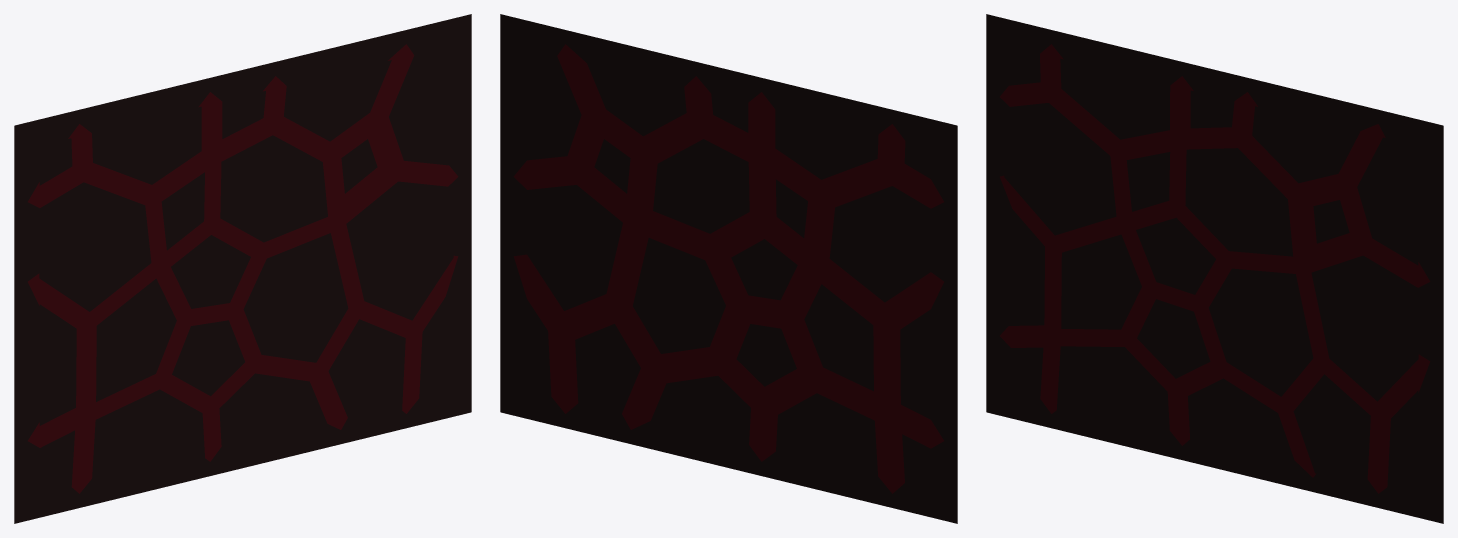
File: wall hell.fbx
3 renders of one model, left to right at view 1: azimuth 30°, elevation 25°; view 2: azimuth 150°, elevation 25°; view 3: azimuth 330°, elevation 25°, orthographic.
Parts seen in each view (by area): view 1: Plane002; view 2: Plane002; view 3: Plane002.
Boxes of the visible parts, bbox=[...] form: Plane002: bbox=[14, 14, 471, 523]; Plane002: bbox=[500, 14, 957, 523]; Plane002: bbox=[986, 14, 1443, 523].
Bounding box in the file's own units: 86.93 × 72.3 × 1.13.
